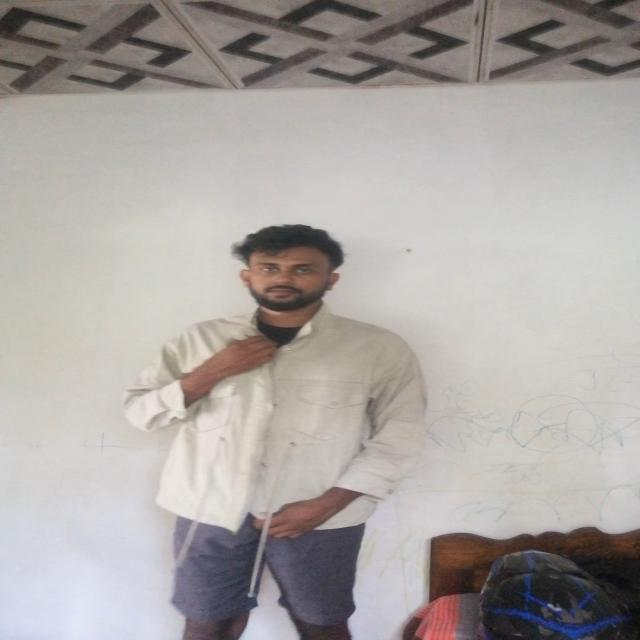Jacket_Wearer: (120, 302, 434, 528)
Person: (127, 212, 436, 640)
